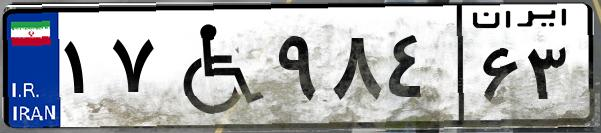1: (57, 26, 110, 100)
3: (525, 38, 570, 115)
4: (385, 28, 445, 110)
6: (475, 38, 525, 113)
7: (110, 28, 158, 98)
8: (330, 28, 385, 110)
9: (270, 28, 330, 110)
ژ (معلولین و جانبازان): (158, 12, 270, 120)
